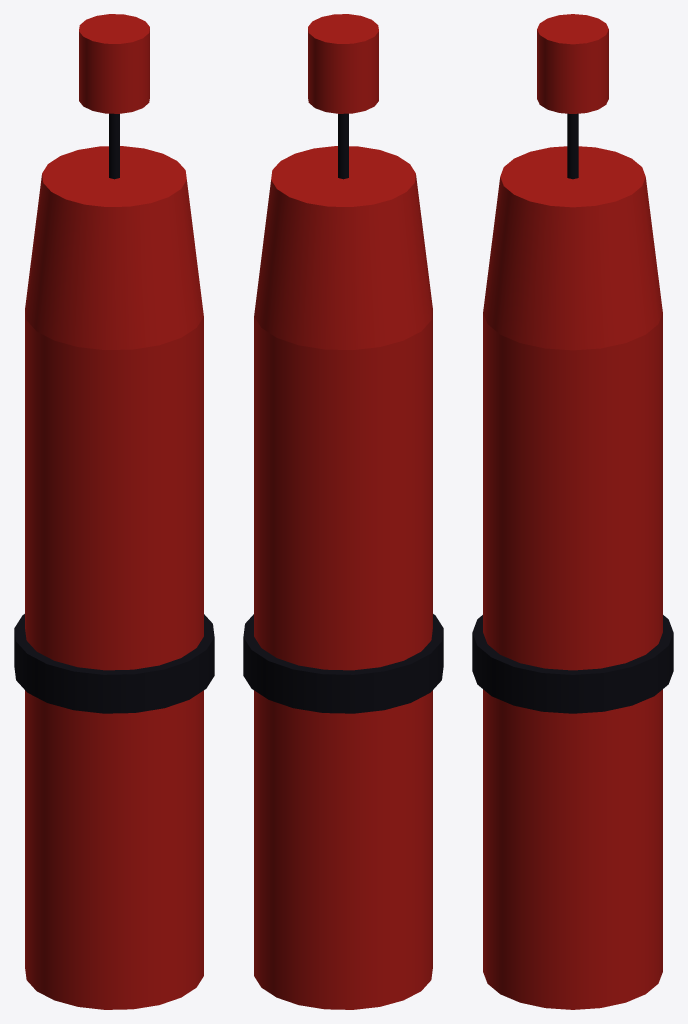
File: spar_lateral_port.glb
The picture shows the model from 3 angles, left to right: view 1: azimuth 30°, elevation 25°; view 2: azimuth 150°, elevation 25°; view 3: azimuth 270°, elevation 25°; orthographic projection.
Parts seen in each view (by area): view 1: spar_lateral_port; view 2: spar_lateral_port; view 3: spar_lateral_port.
Part boxes in pixels (x1,y1,x2,y2): spar_lateral_port: [14, 14, 214, 1009]; spar_lateral_port: [243, 14, 443, 1009]; spar_lateral_port: [472, 14, 673, 1009].
Bounding box in the file's own units: 0.9398 × 4.86 × 0.9398.
